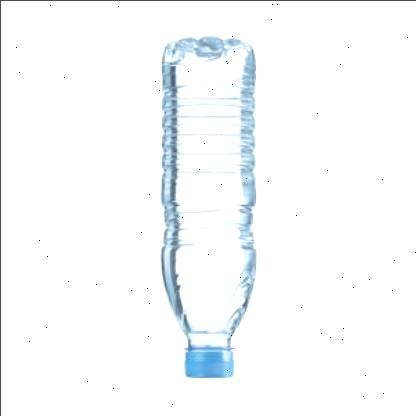Plastic Bottle: (159, 35, 255, 377)
